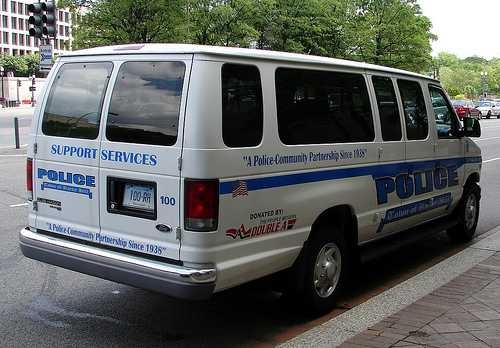Police Van: (15, 30, 500, 299)
